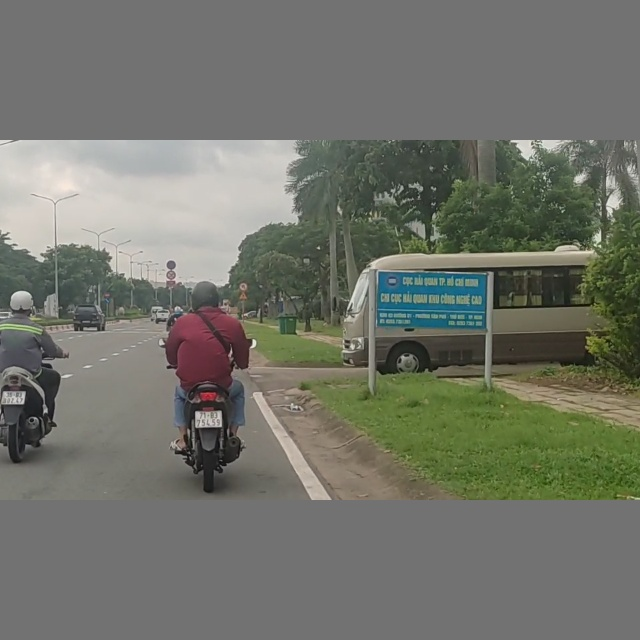P.102: (104, 291, 111, 298)
P.111: (167, 270, 176, 279)
P.124a*: (238, 281, 249, 291)
P.130: (167, 261, 176, 269)
R.302a: (105, 298, 111, 304)
W.224: (239, 291, 249, 301)
